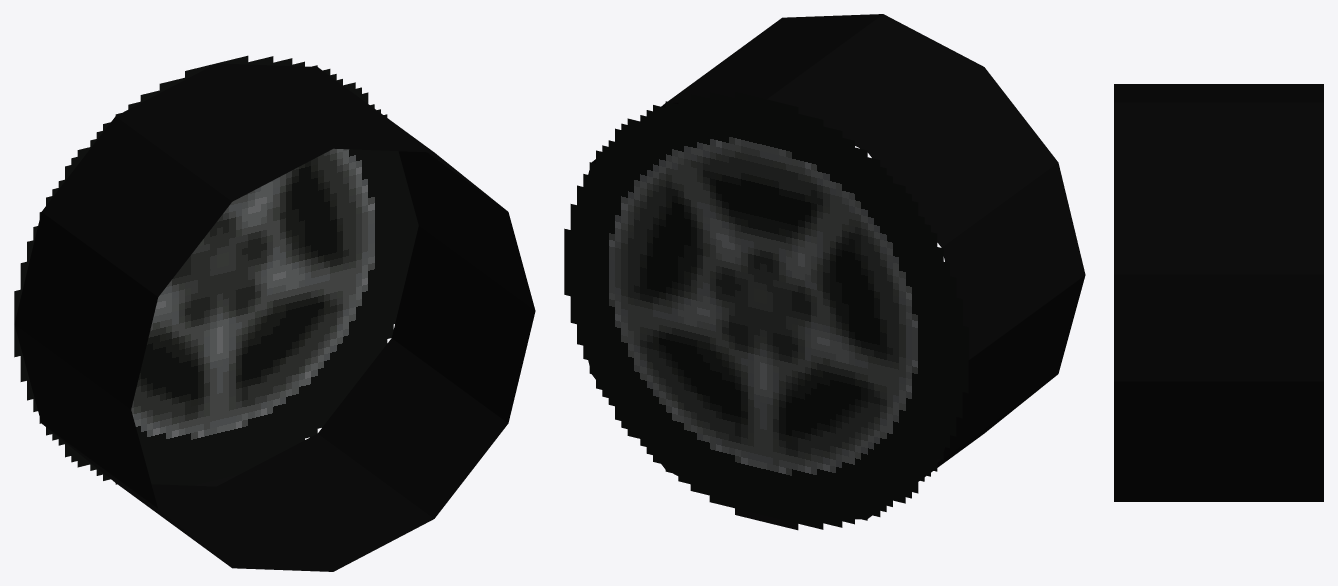
The model's file is Wheel.obj.
3 renders of one model, left to right at view 1: azimuth 30°, elevation 25°; view 2: azimuth 150°, elevation 25°; view 3: azimuth 270°, elevation 25°, orthographic. The views are drawn at different scales.
Parts seen in each view (by area): view 1: Cylinder; view 2: Cylinder; view 3: Cylinder.
Part boxes in pixels (x1=…): Cylinder: x1=14, y1=55, x2=535, y2=571; Cylinder: x1=564, y1=14, x2=1085, y2=530; Cylinder: x1=1114, y1=84, x2=1323, y2=501.
Size of the model in its own units: 20.51 by 20.51 by 10.26.
2 materials, 2 textured.
